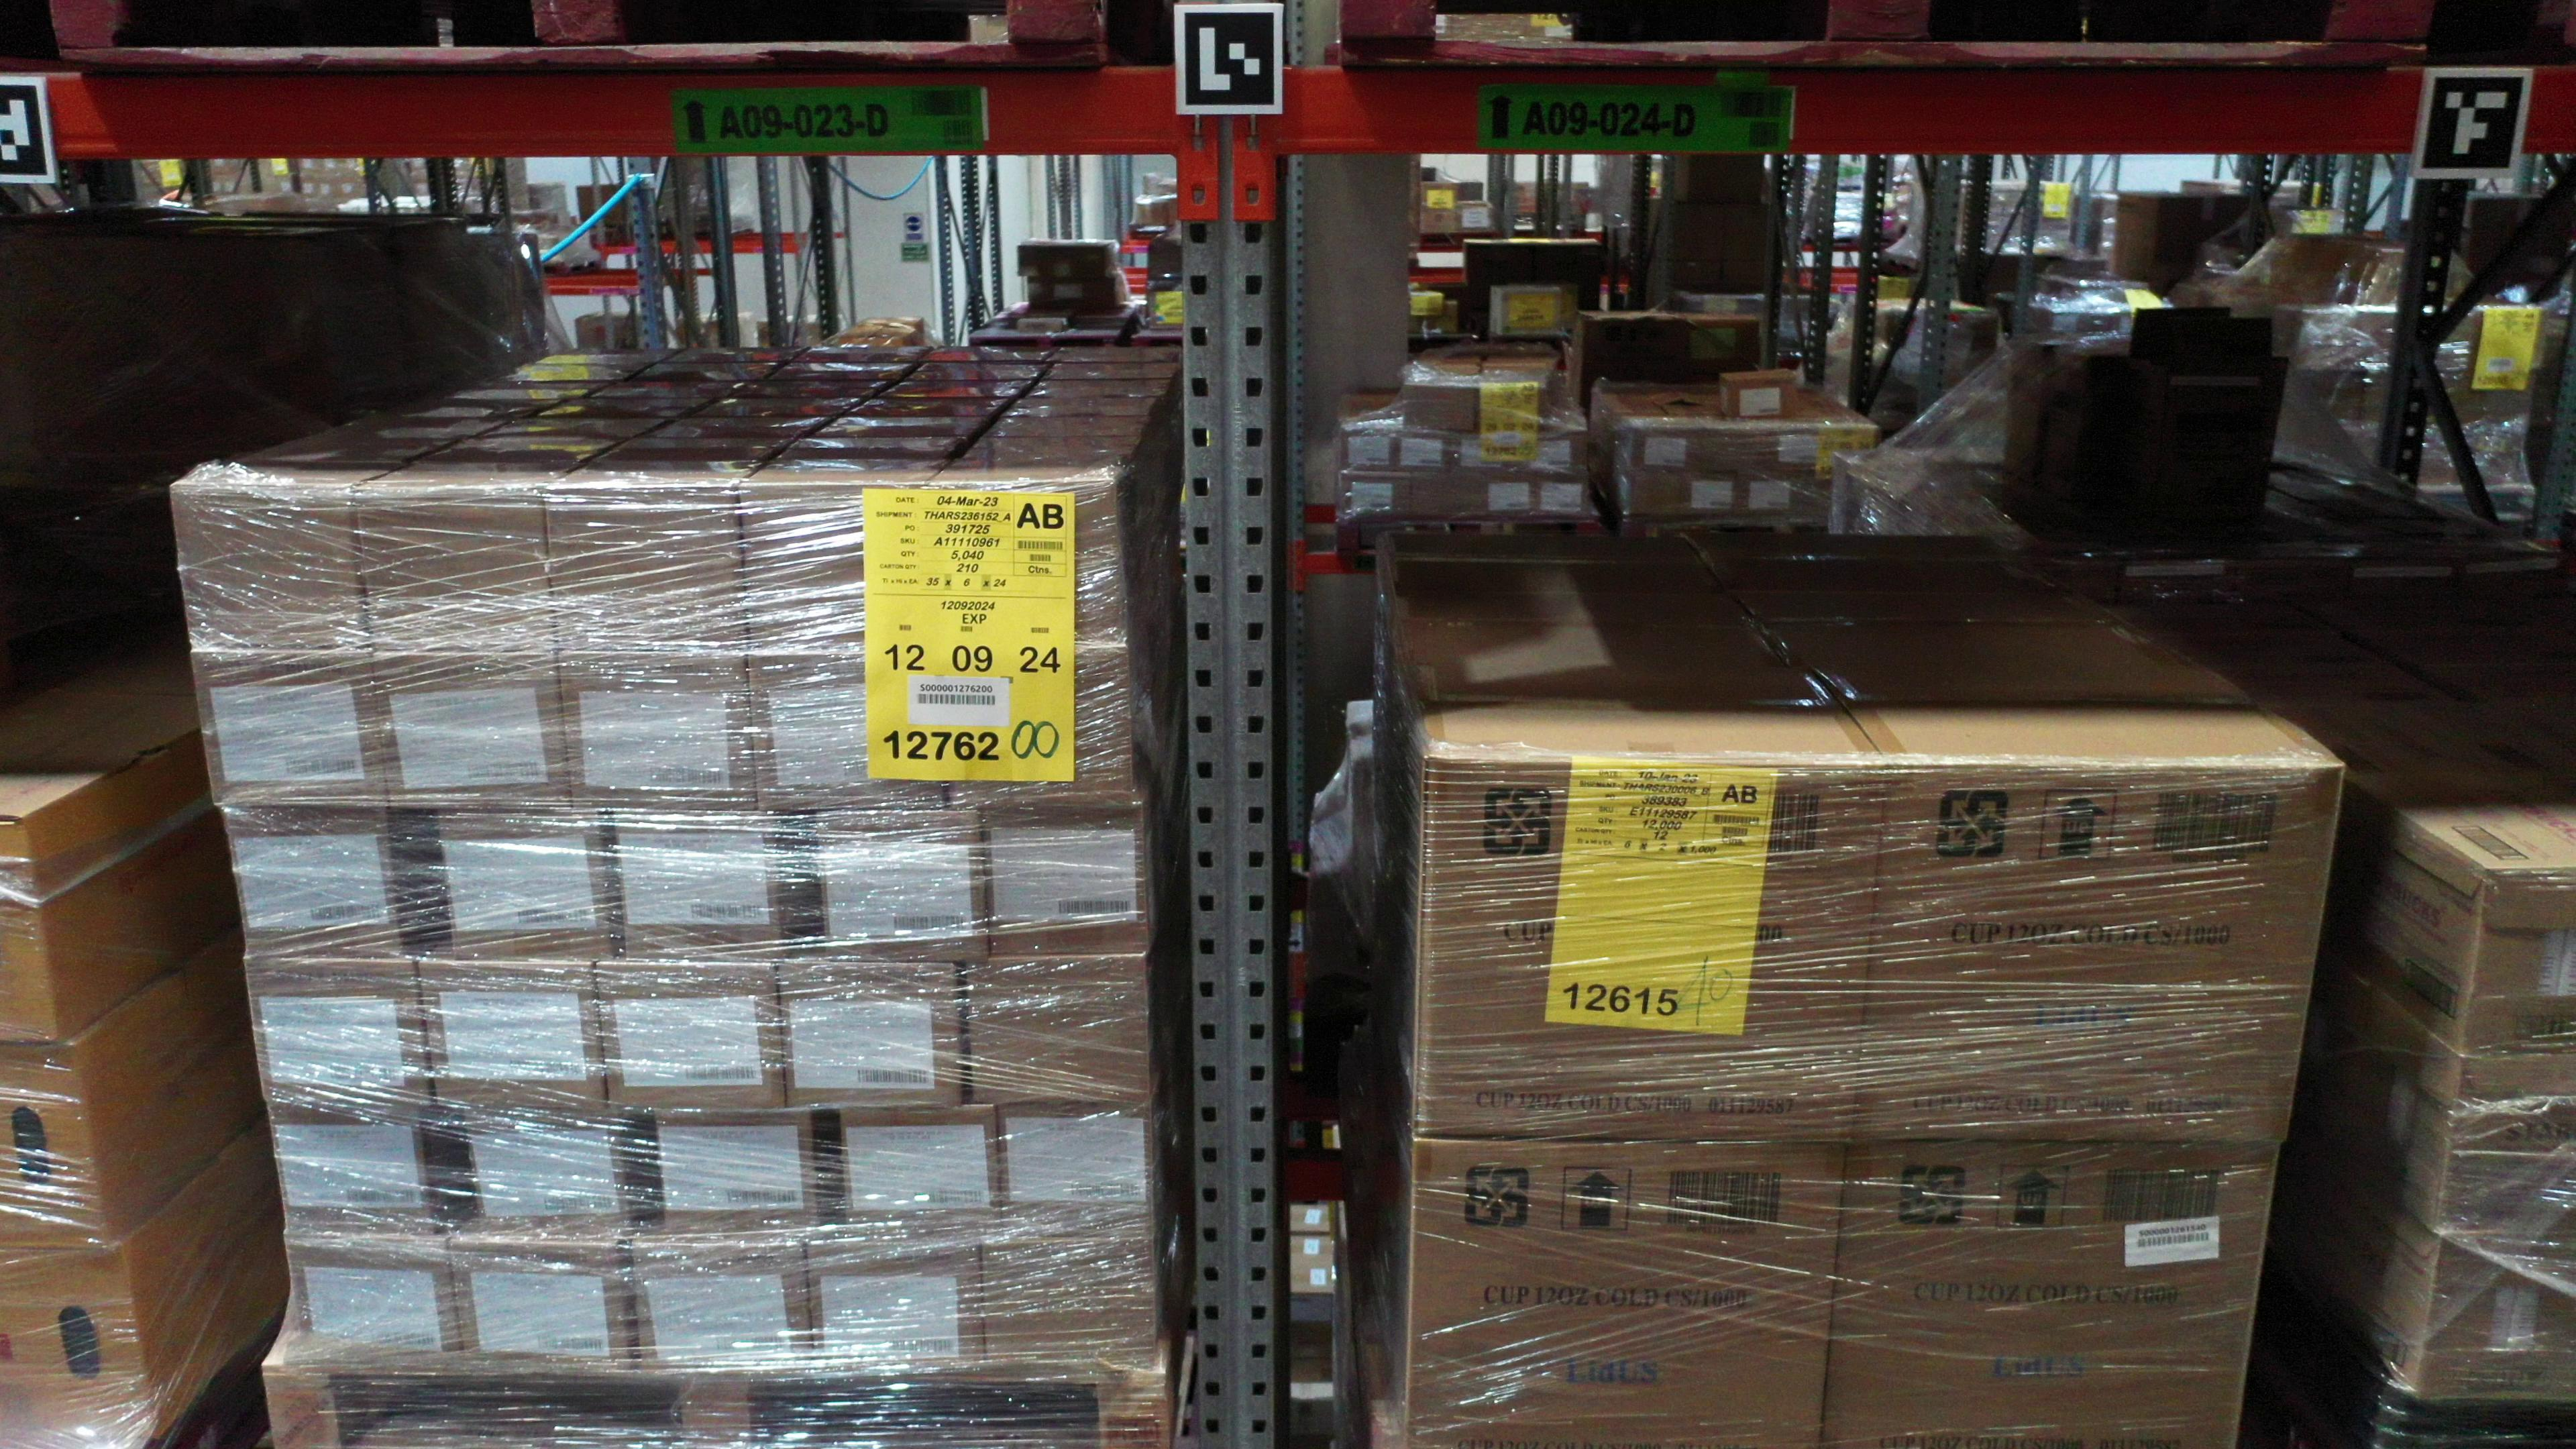-: (1847, 764, 2346, 1145), (1414, 750, 1886, 1141), (1819, 1139, 2279, 1449), (1405, 1138, 1845, 1449), (927, 485, 1127, 660), (734, 485, 938, 656), (352, 490, 559, 658), (370, 648, 575, 814), (543, 494, 750, 656), (170, 488, 370, 653), (936, 648, 1132, 812), (244, 959, 444, 1120), (559, 653, 761, 812), (748, 656, 947, 816), (193, 653, 391, 807), (0, 1247, 157, 1438), (418, 959, 607, 1116), (432, 807, 619, 962), (596, 964, 787, 1116), (225, 805, 407, 955), (782, 962, 966, 1109), (962, 959, 1148, 1104), (817, 810, 991, 964), (2417, 1235, 2576, 1399), (2434, 1056, 2576, 1240), (617, 810, 787, 962), (984, 807, 1148, 959), (807, 1238, 991, 1369), (449, 1242, 637, 1369), (0, 1040, 115, 1247), (630, 1246, 814, 1371), (287, 1237, 465, 1364), (977, 1237, 1150, 1364), (656, 1113, 824, 1242), (2461, 872, 2576, 1060), (465, 1115, 633, 1237), (274, 1113, 439, 1237), (844, 1106, 1000, 1231), (998, 1106, 1152, 1226), (0, 817, 58, 1044)
